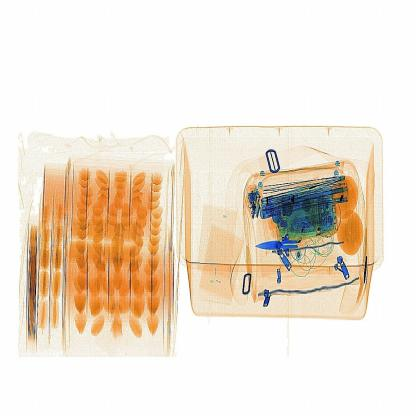gun: (252, 218, 312, 276)
